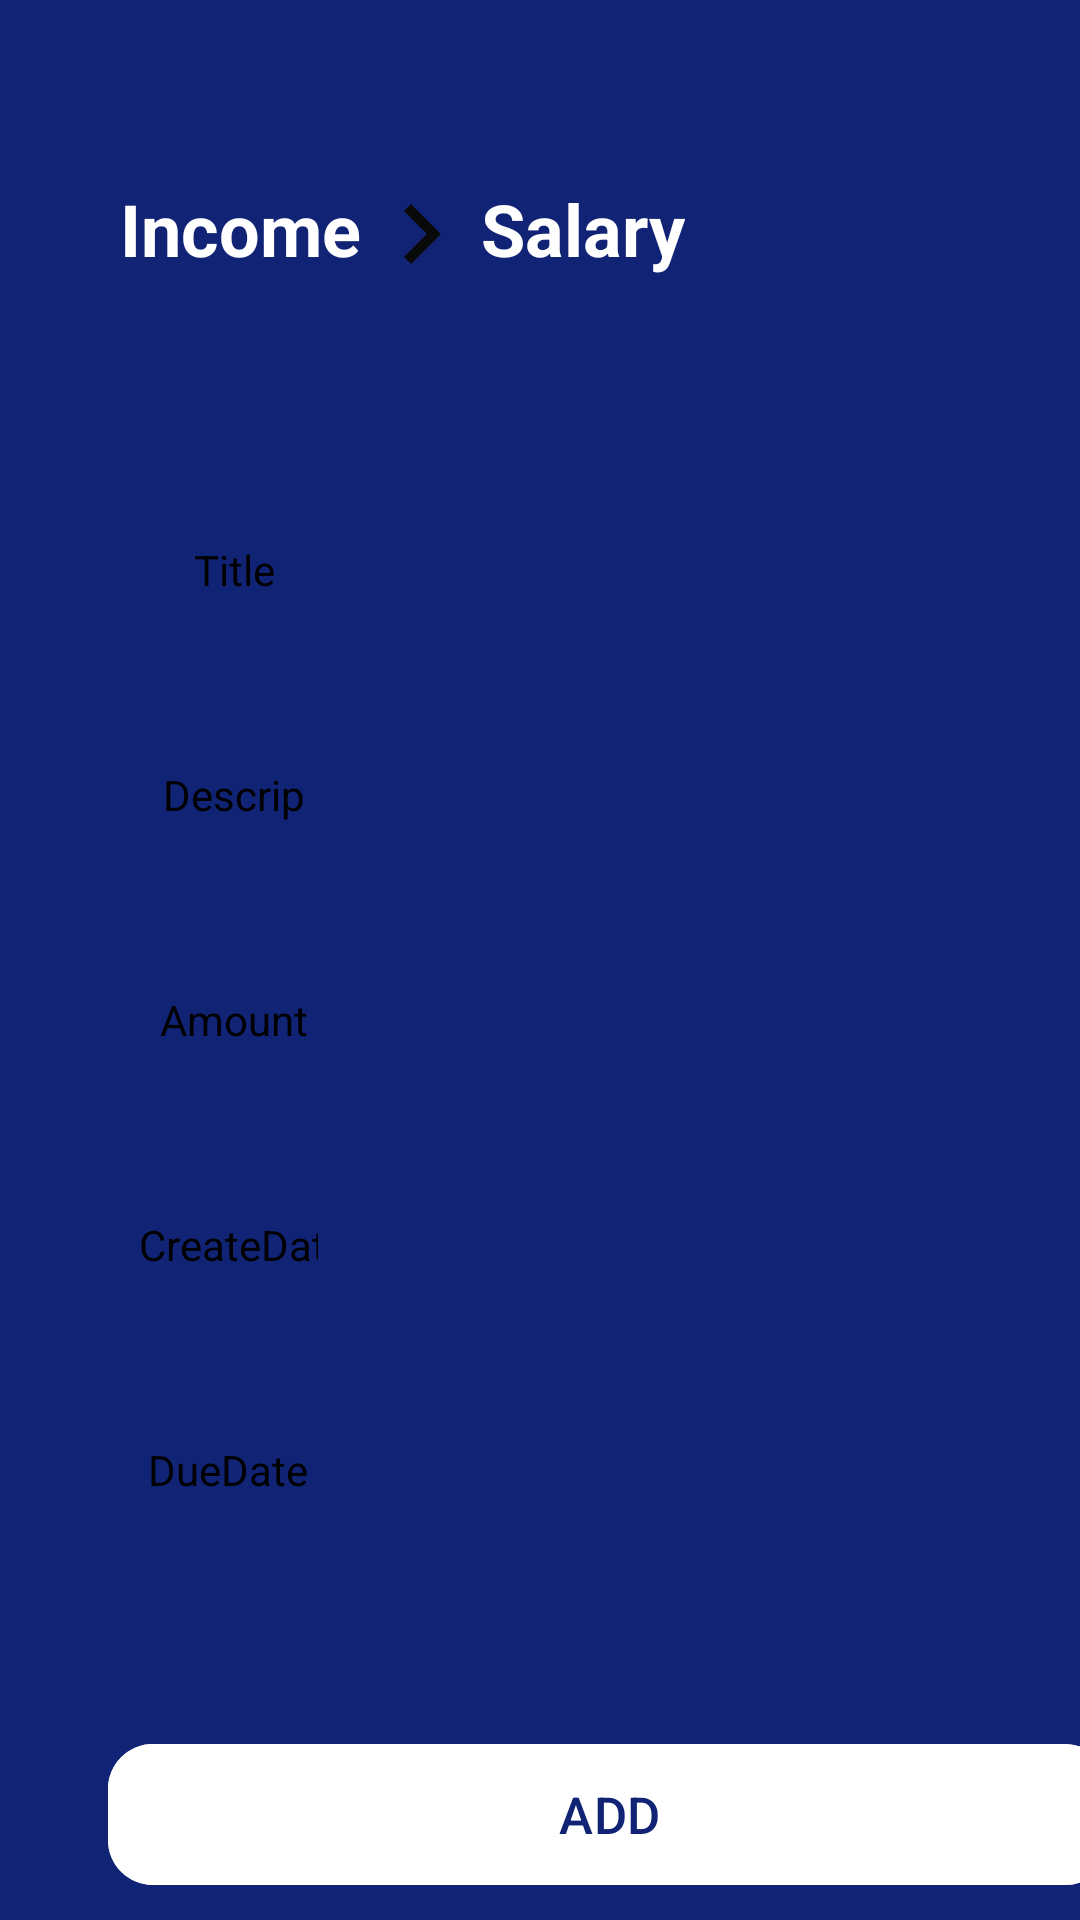

Named icons in this screenshot (1080x1920) and their centers, (x=x, y=y):
arrow right: (x=422, y=234)
